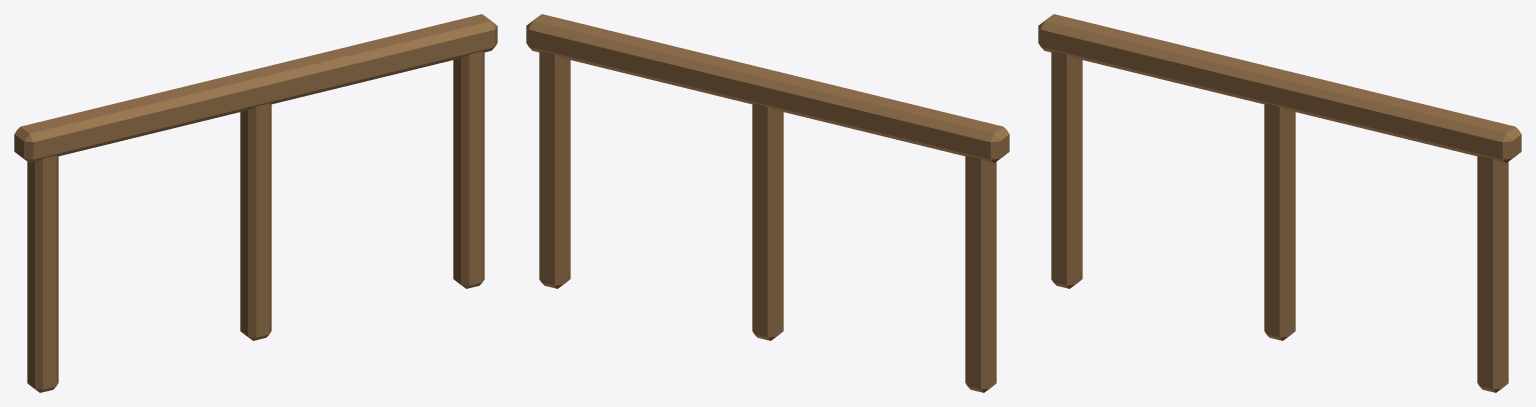
File: harbor-railing.lod0.glb
The picture shows the model from 3 angles, left to right: view 1: azimuth 30°, elevation 25°; view 2: azimuth 150°, elevation 25°; view 3: azimuth 330°, elevation 25°; orthographic projection.
Visible parts, largest first — view 1: harbor-railing__body; view 2: harbor-railing__body; view 3: harbor-railing__body.
Part boxes in pixels (x1=…): harbor-railing__body: x1=14, y1=14, x2=497, y2=392; harbor-railing__body: x1=526, y1=14, x2=1009, y2=392; harbor-railing__body: x1=1038, y1=14, x2=1521, y2=392.
Size of the model in its own units: 2 by 1.06 by 0.12.
